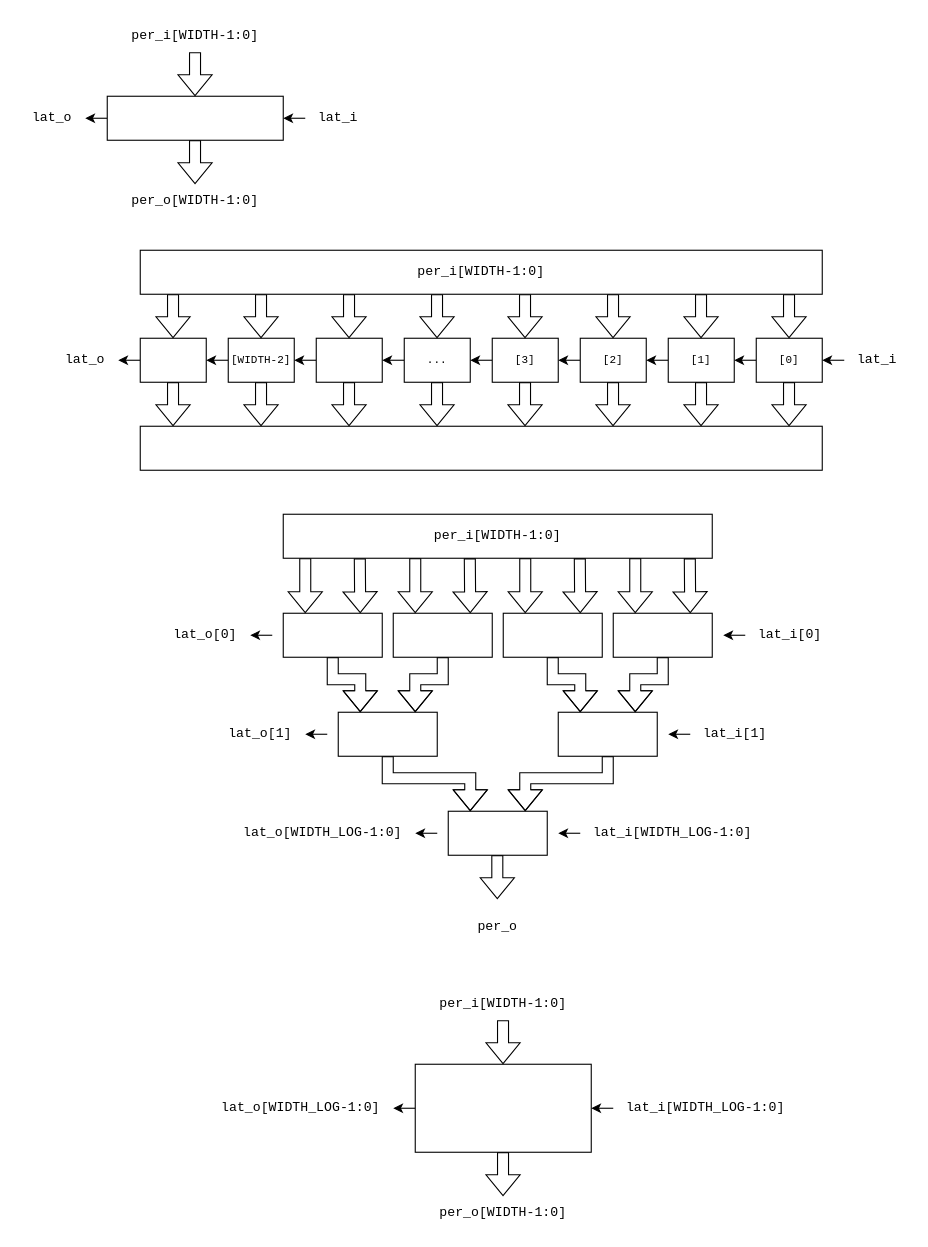
Image size: 928x1247. Some labels were removed from this diagram. The shapes that lost their labels are listed below. From the top down, each one's centre as x and y in pixels, then its label:
At [172,359]: "[WIDTH-1]".
At [348,359]: "[WIDTH-3]".
At [480,447]: "per_o[WIDTH-1:0]".
